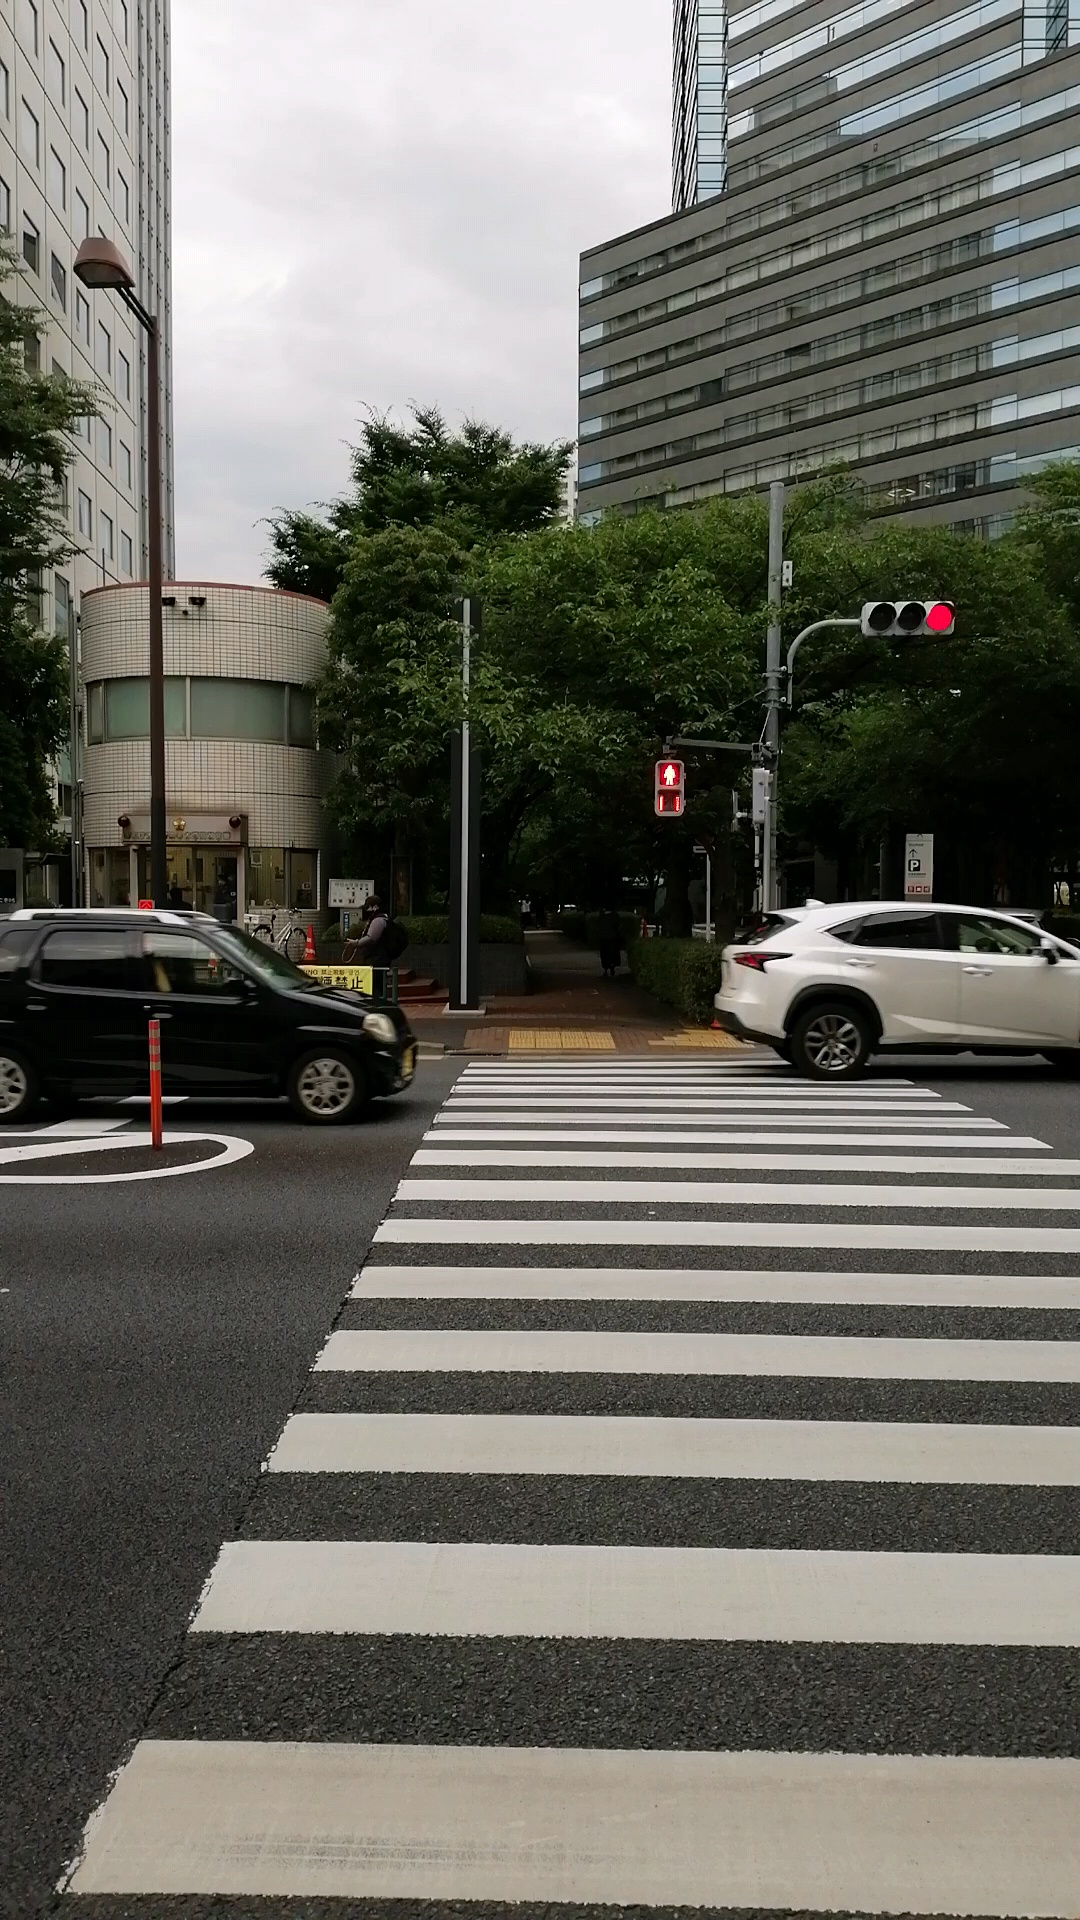red: (651, 760, 684, 816)
